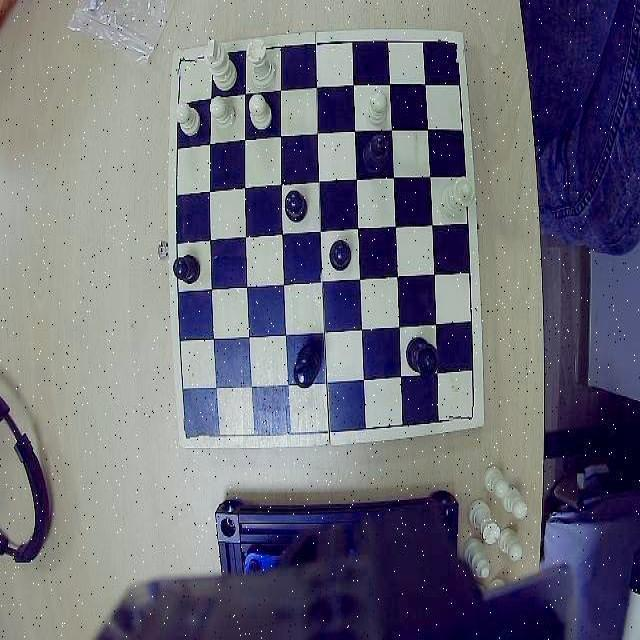chess-table-corners: (451, 397, 482, 427), (178, 416, 210, 444), (438, 34, 466, 62), (172, 50, 198, 78)
